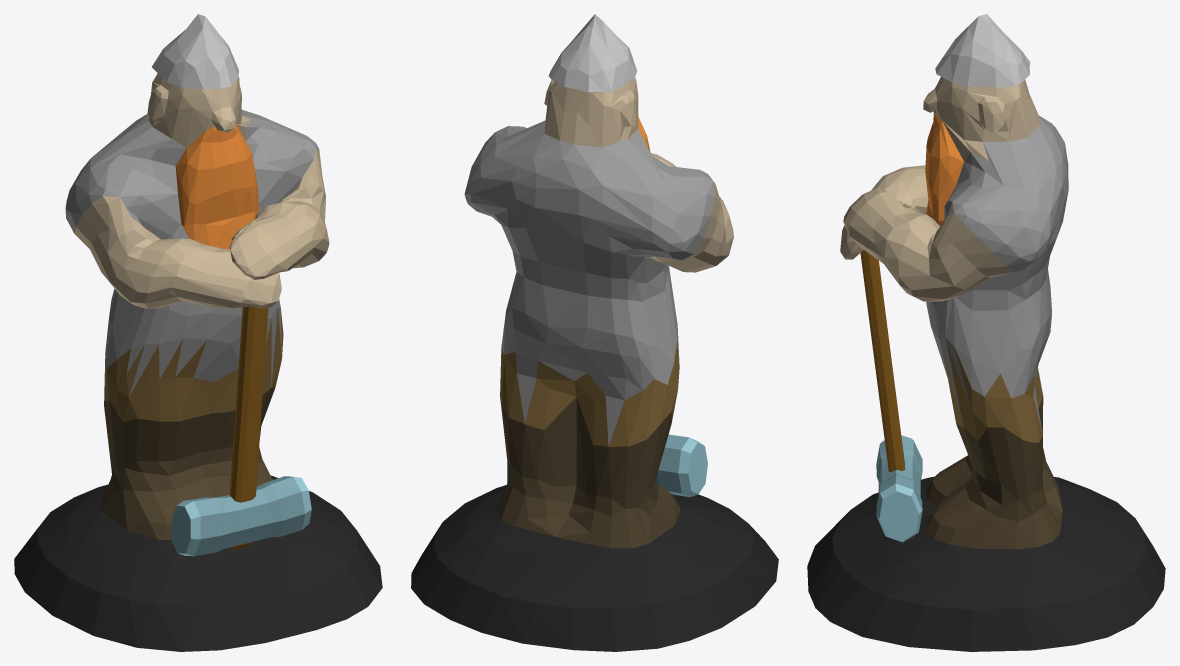
The model's file is Dwarf.fbx.
3 views of the same model, side by side, from view 1: azimuth 30°, elevation 25°; view 2: azimuth 150°, elevation 25°; view 3: azimuth 270°, elevation 25° (orthographic).
Parts seen in each view (by area): view 1: FigureDwarf; view 2: FigureDwarf; view 3: FigureDwarf.
Part boxes in pixels (left/top/right/bottom): FigureDwarf: left=14, top=14, right=382, bottom=651; FigureDwarf: left=411, top=14, right=778, bottom=651; FigureDwarf: left=807, top=14, right=1165, bottom=651.
Bounding box in the file's own units: 1.12 × 1.95 × 1.13.
